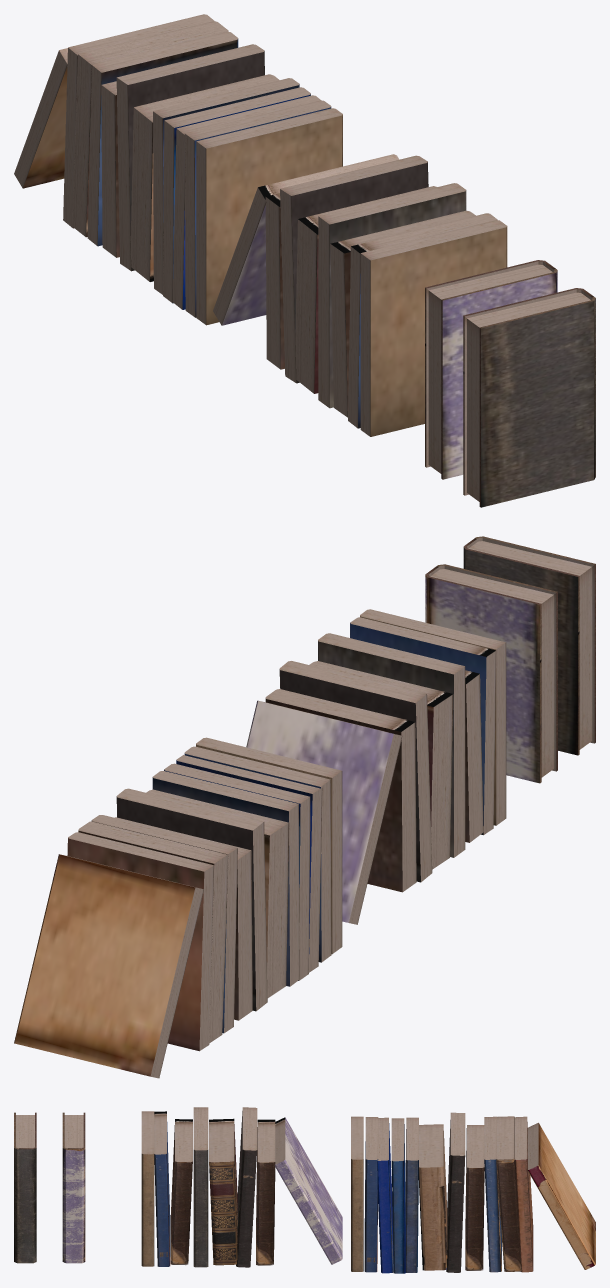
Rendered from book1.glb.
3 renders of one model, top to bottom at view 1: azimuth 30°, elevation 25°; view 2: azimuth 150°, elevation 25°; view 3: azimuth 270°, elevation 25°, orthographic. The views are drawn at different scales.
Parts seen in each view (by area): view 1: books.001, books, book2, book; view 2: books.001, books, book, book2; view 3: books.001, books, book, book2.
Boxes of the visible parts, x1,y1,x2,y2 form: books.001: [14, 14, 342, 325]; books: [213, 154, 507, 436]; book2: [463, 288, 595, 507]; book: [425, 260, 557, 479]; books.001: [14, 737, 342, 1078]; books: [246, 609, 506, 924]; book: [425, 564, 557, 783]; book2: [463, 536, 595, 755]; books.001: [351, 1112, 595, 1273]; books: [141, 1107, 342, 1267]; book: [62, 1112, 85, 1263]; book2: [14, 1112, 36, 1263].
Size of the model in its own units: 2.35 by 3.16 by 13.46.
Materials: 1 (1 with a texture image).
